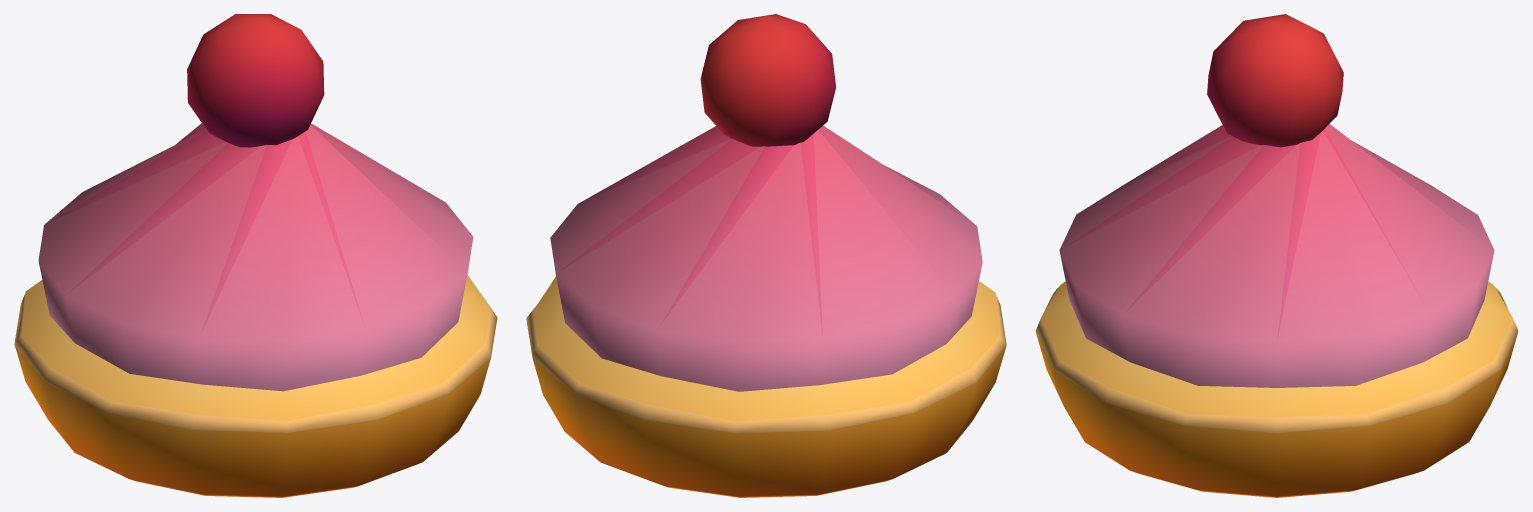
The model's file is pastry_001.fbx.
3 views of the same model, side by side, from view 1: azimuth 30°, elevation 25°; view 2: azimuth 150°, elevation 25°; view 3: azimuth 270°, elevation 25° (orthographic).
Visible parts, largest first — view 1: pastry_001; view 2: pastry_001; view 3: pastry_001.
Boxes of the visible parts, left/top/right/bottom form: pastry_001: left=14, top=14, right=497, bottom=497; pastry_001: left=526, top=14, right=1006, bottom=497; pastry_001: left=1035, top=14, right=1518, bottom=497.
Bounding box in the file's own units: 10.08 × 10.08 × 9.1.
